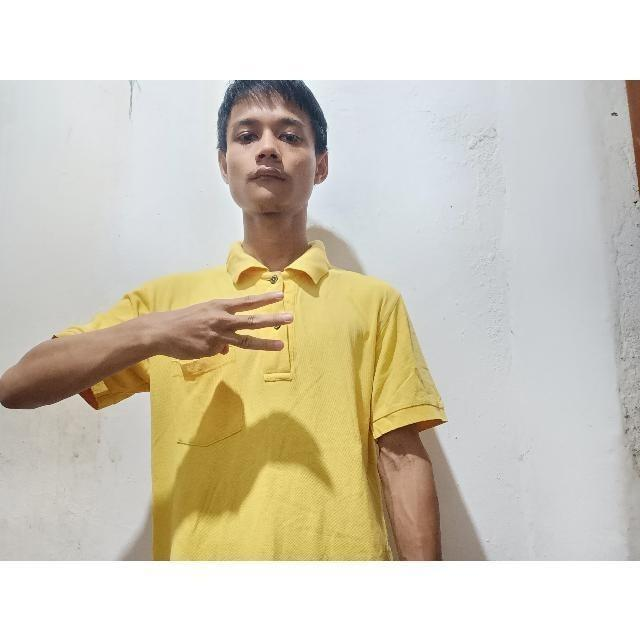E: (139, 279, 299, 373)
